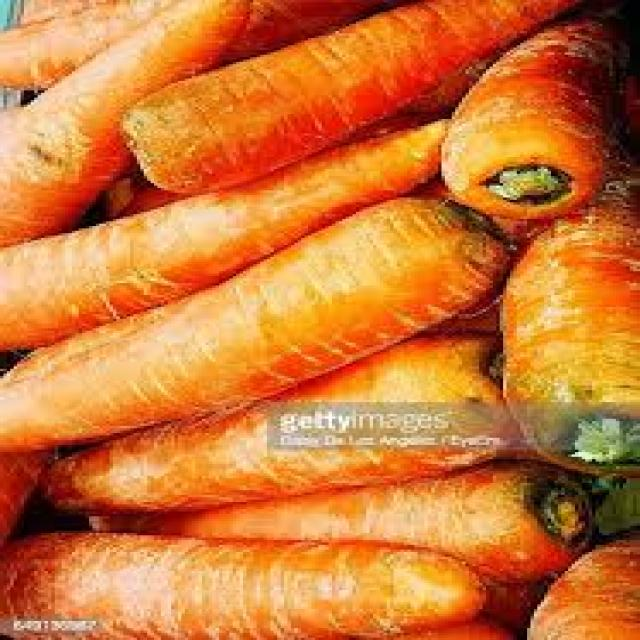Stale_Carrot: (0, 198, 505, 449), (0, 121, 446, 349), (122, 0, 577, 193), (505, 202, 638, 402)
